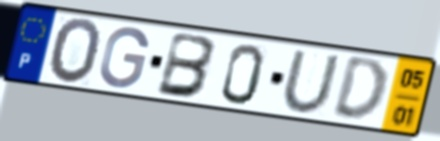0: (219, 41, 269, 106)
B: (153, 29, 219, 101)
D: (329, 56, 389, 125)
G: (96, 25, 152, 91)
O: (46, 16, 104, 87)
U: (280, 48, 343, 116)
